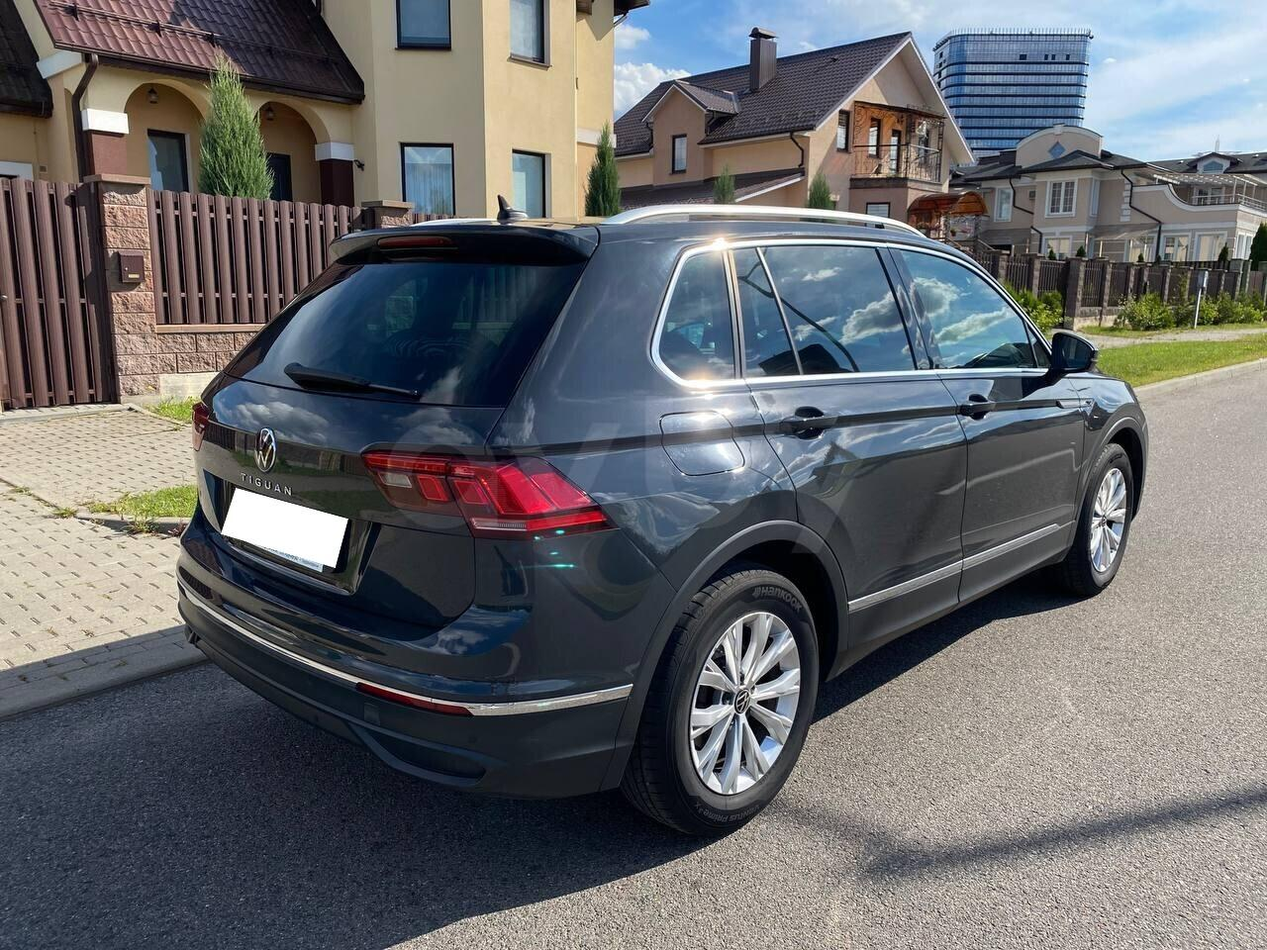Tiguan_2020-2024: (168, 208, 1149, 842)
